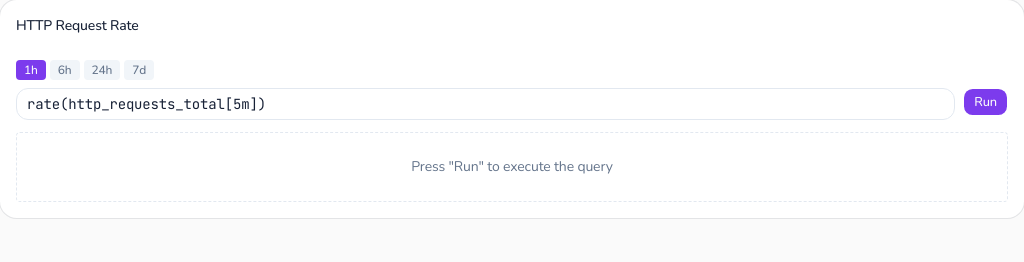
it: PromQLChartCard › disables the Run button and shows the loading indicator while a query is in flight
What coordinates should you click on to do the following:
click the button "Run"
I would click on:
 (986, 102)
Its box is [963,88,1008,116].
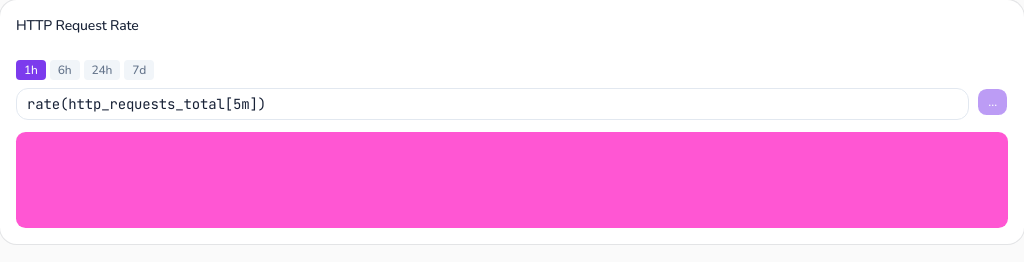
Now the button "…" is disabled, box [977,88,1008,116]
